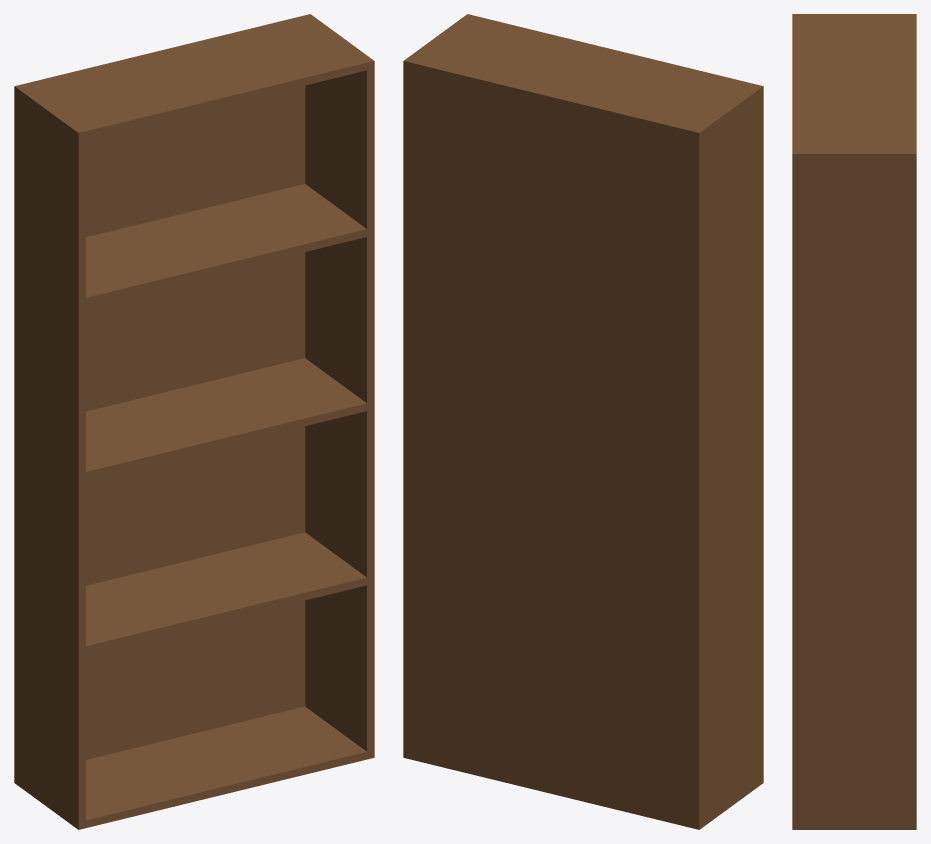
File: shelf.obj
The picture shows the model from 3 angles, left to right: view 1: azimuth 30°, elevation 25°; view 2: azimuth 150°, elevation 25°; view 3: azimuth 270°, elevation 25°; orthographic projection. The views are drawn at different scales.
Visible parts, largest first — view 1: Back, Side_L, Side_R, Top, Board_3, Board_4, Board_2, Board_1; view 2: Back, Side_L, Top, Side_R; view 3: Side_R, Top, Back, Side_L.
Boxes of the visible parts, <box> form: Back: <box>22,16,305,759</box>; Side_L: <box>14,84,85,829</box>; Side_R: <box>304,14,374,759</box>; Top: <box>14,15,374,140</box>; Board_3: <box>86,358,366,479</box>; Board_4: <box>86,184,366,305</box>; Board_2: <box>86,532,366,653</box>; Board_1: <box>86,706,366,827</box>; Back: <box>411,61,693,827</box>; Side_L: <box>692,84,763,829</box>; Top: <box>403,15,762,139</box>; Side_R: <box>403,14,474,759</box>; Side_R: <box>792,150,916,829</box>; Top: <box>792,14,916,161</box>; Back: <box>912,17,916,150</box>; Side_L: <box>792,14,916,17</box>.
Bounding box in the file's own units: 0.8 × 1.8 × 0.3.
